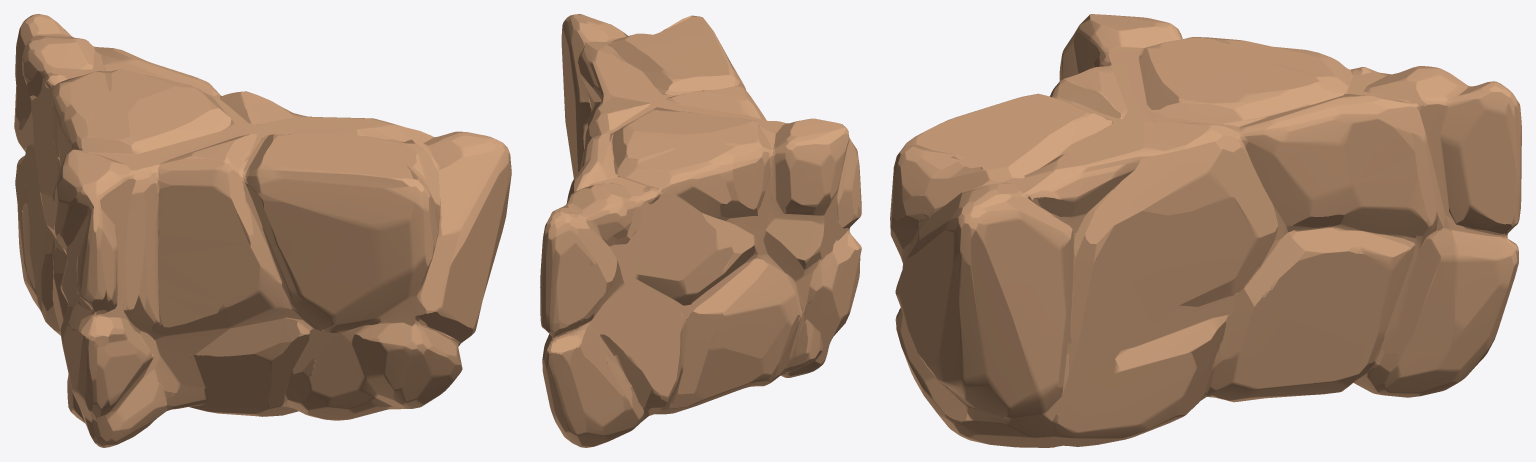
The picture shows the model from 3 angles, left to right: view 1: azimuth 30°, elevation 25°; view 2: azimuth 150°, elevation 25°; view 3: azimuth 270°, elevation 25°; orthographic projection. The views are drawn at different scales.
Parts seen in each view (by area): view 1: Mesh_17_LOD0; view 2: Mesh_17_LOD0; view 3: Mesh_17_LOD0.
Part boxes in pixels (<box>): Mesh_17_LOD0: <box>14,14,511,447</box>; Mesh_17_LOD0: <box>540,14,861,447</box>; Mesh_17_LOD0: <box>890,14,1521,447</box>.
Size of what is drawn, in the model's own units: 2360 by 1717 by 3079.
